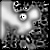node: (27, 7, 40, 22), (28, 44, 36, 50)
